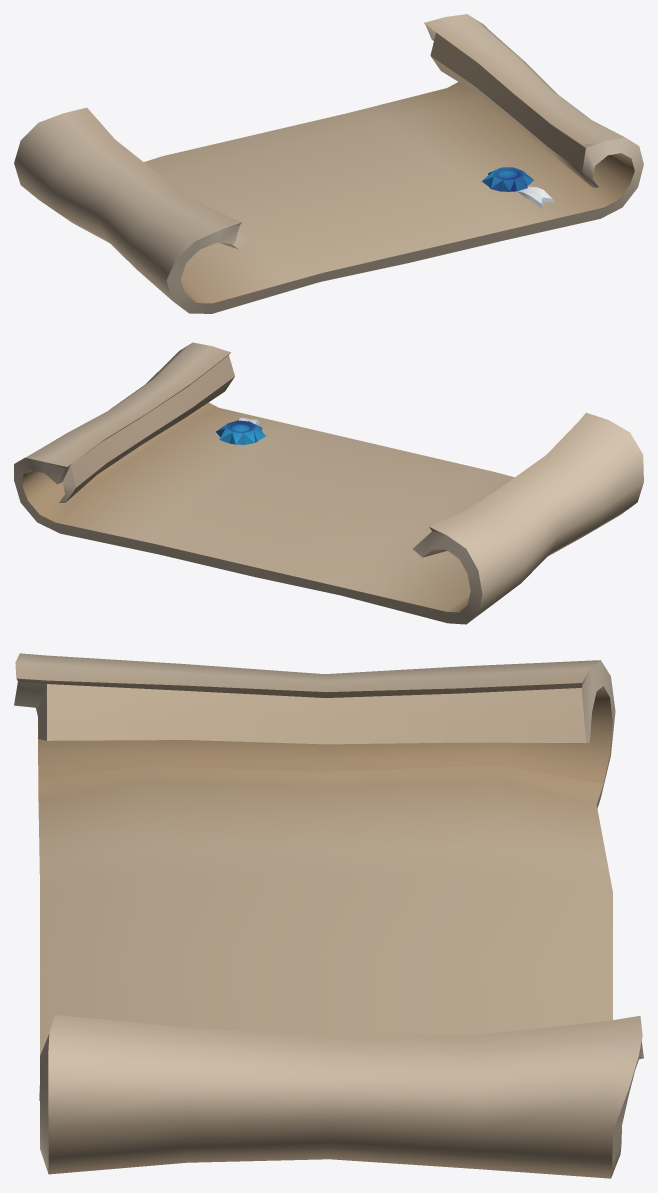
File: map_empty.obj
3 renders of one model, top to bottom at view 1: azimuth 30°, elevation 25°; view 2: azimuth 150°, elevation 25°; view 3: azimuth 270°, elevation 25°, orthographic. The views are drawn at different scales.
Visible parts, largest first — view 1: map_empty; view 2: map_empty; view 3: map_empty.
Part boxes in pixels (bbox=[...]): map_empty: bbox=[14, 14, 643, 313]; map_empty: bbox=[14, 342, 643, 624]; map_empty: bbox=[14, 653, 643, 1178].
Size of the model in its own units: 1.94 by 0.3548 by 1.22.
Materials: 2 (2 with a texture image).
